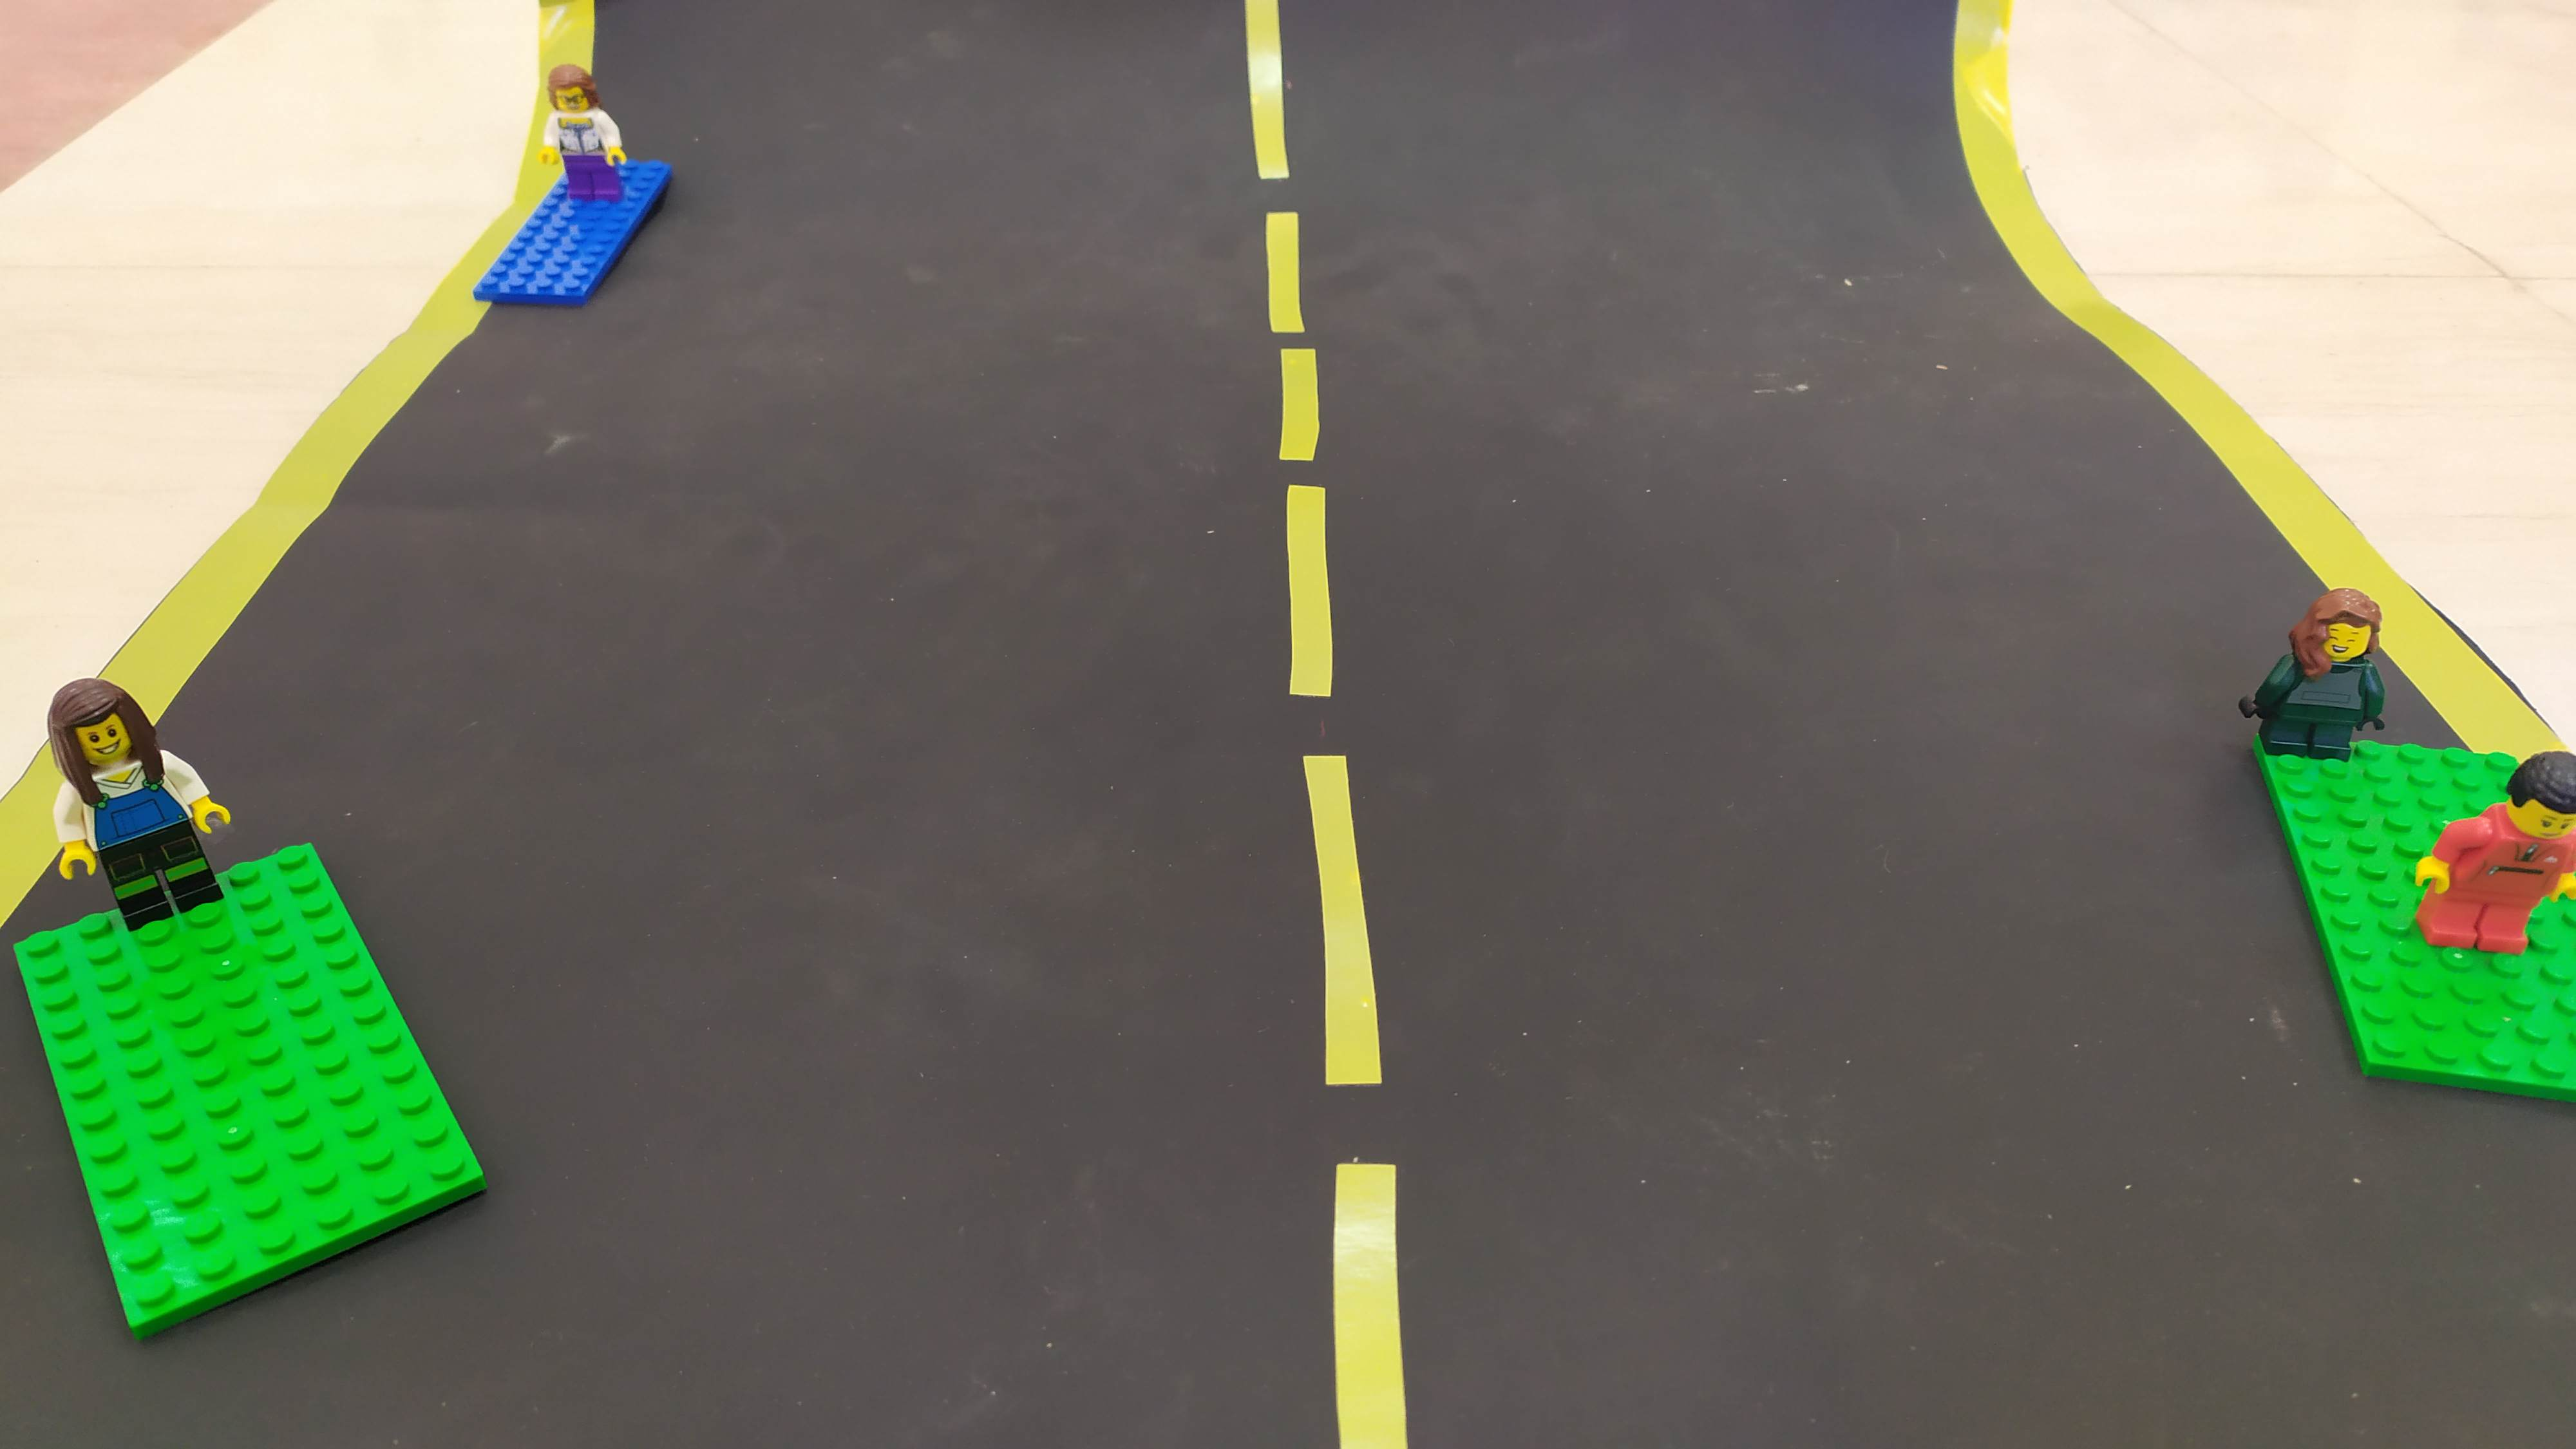Person: (48, 647, 235, 924), (2238, 570, 2405, 789), (2399, 763, 2566, 976), (544, 61, 660, 222)
